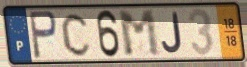3: (187, 7, 217, 59)
6: (95, 9, 122, 60)
C: (60, 11, 93, 58)
J: (160, 11, 184, 55)
M: (116, 8, 163, 59)
P: (27, 9, 60, 61)
